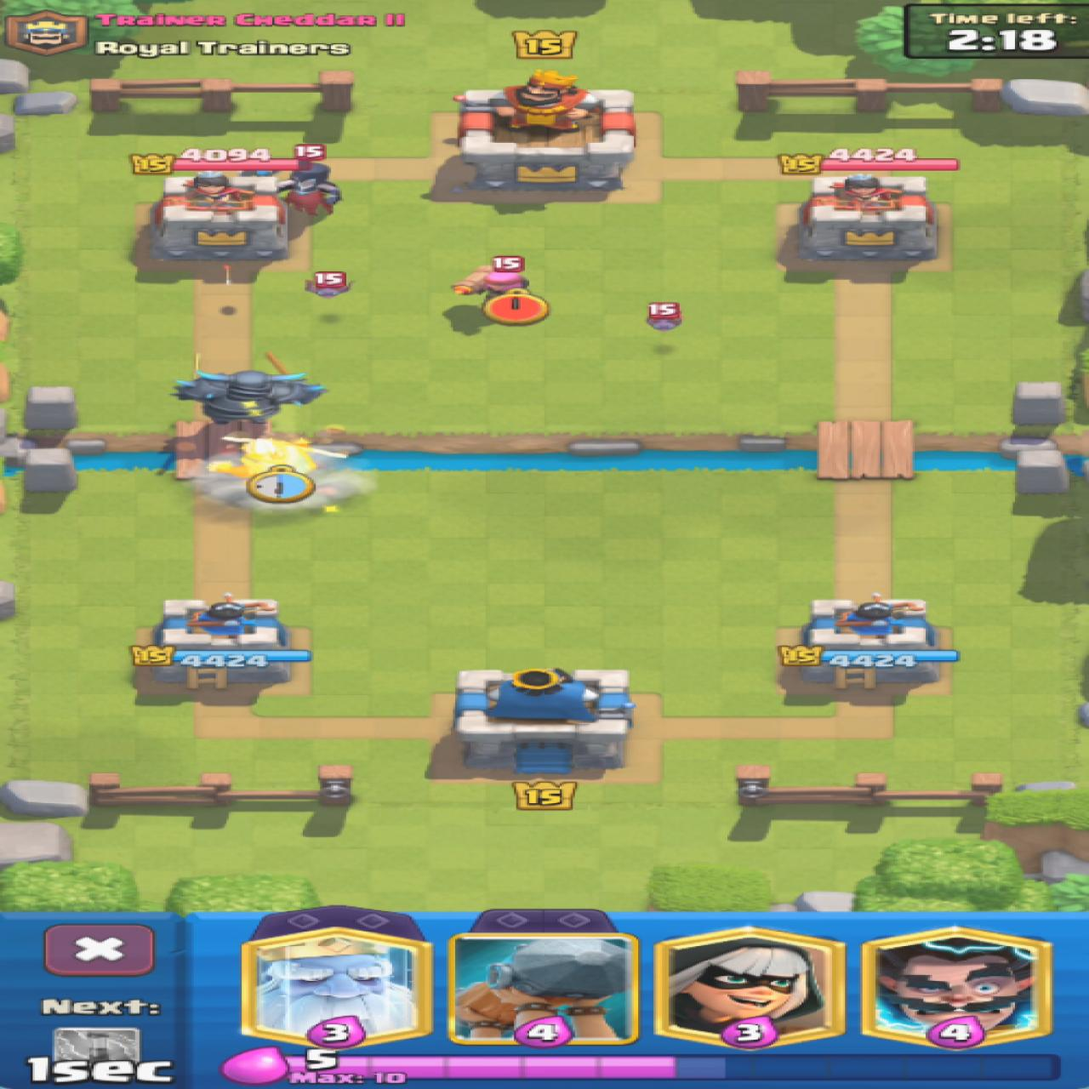Enemy-Bat: (305, 271, 351, 297), (647, 319, 677, 330)
Enemy-Firecracker: (455, 260, 527, 300)
Enemy-KingTower: (457, 71, 634, 195)
Enemy-NightWitch: (279, 162, 340, 216)
Enemy-PrincessTower: (152, 168, 285, 262), (799, 174, 934, 261)
